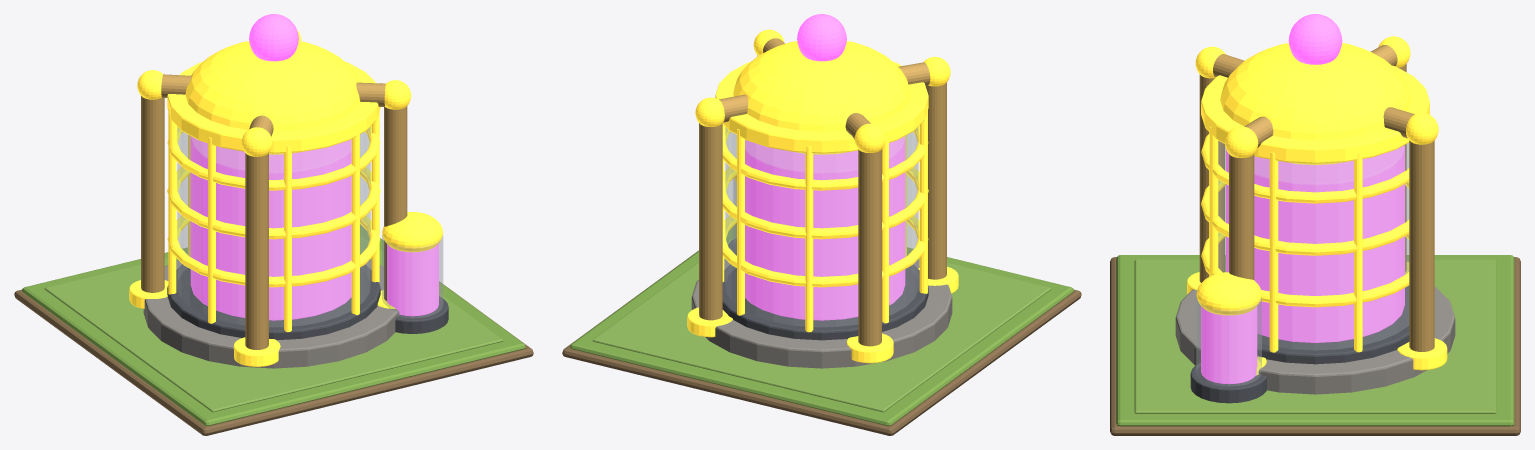
File: elixir_collector_lv4.glb
3 renders of one model, left to right at view 1: azimuth 30°, elevation 25°; view 2: azimuth 150°, elevation 25°; view 3: azimuth 270°, elevation 25°, orthographic. The views are drawn at different scales.
Visible parts, largest first — view 1: GlassCylinder, ElixirLiquid, Base_Inner, BrassDome, Base_Grass, WellBase, Base_Dirt, TopRim, WellIronRing, PipeDown_3, PipeDown_2, AuxTankGlass (+20 smaller); view 2: GlassCylinder, Base_Inner, ElixirLiquid, BrassDome, Base_Grass, WellBase, Base_Dirt, TopRim, PipeDown_2, PipeDown_1, WellIronRing, PipeDown_3 (+15 smaller); view 3: Base_Inner, GlassCylinder, ElixirLiquid, BrassDome, Base_Grass, WellBase, Base_Dirt, TopRim, PipeDown_1, AuxTankGlass, AuxTankElixir, WellIronRing (+19 smaller).
Boxes of the visible parts, x1,y1,x2,y2 form: GlassCylinder: (177,127,370,326); ElixirLiquid: (190,136,351,320); Base_Inner: (44,235,503,412); BrassDome: (185,41,360,154); Base_Grass: (22,224,525,425); WellBase: (143,260,399,368); Base_Dirt: (14,238,533,435); TopRim: (167,62,380,153); WellIronRing: (167,264,380,340); PipeDown_3: (245,153,268,349); PipeDown_2: (141,96,164,292); AuxTankGlass: (382,235,443,318); GlassCylinder: (725,127,918,326); Base_Inner: (592,235,1051,412); ElixirLiquid: (745,136,905,320); BrassDome: (733,41,910,154); Base_Grass: (570,223,1073,425); WellBase: (691,255,952,368); Base_Dirt: (562,250,1081,435); TopRim: (715,62,928,153); PipeDown_2: (858,149,881,346); PipeDown_1: (699,123,722,320); WellIronRing: (722,264,928,340); PipeDown_3: (925,82,946,279); Base_Inner: (1134,259,1496,413); GlassCylinder: (1218,141,1409,349); ElixirLiquid: (1226,145,1404,342); BrassDome: (1220,43,1410,165); Base_Grass: (1116,255,1514,426); WellBase: (1175,286,1455,394); Base_Dirt: (1110,257,1520,435); TopRim: (1201,65,1429,163); PipeDown_1: (1409,140,1434,351); AuxTankGlass: (1196,297,1261,386); AuxTankElixir: (1201,306,1257,384); WellIronRing: (1257,286,1409,364).
Size of the model in its own units: 2.76 by 2.48 by 2.76.
